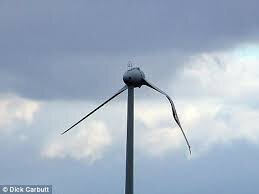faulty: (100, 62, 190, 149)
